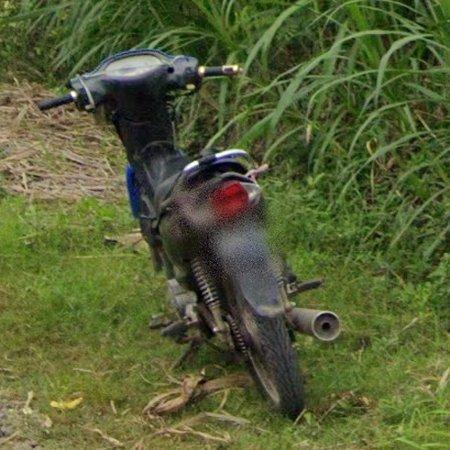motorcycles: (38, 50, 340, 417)
